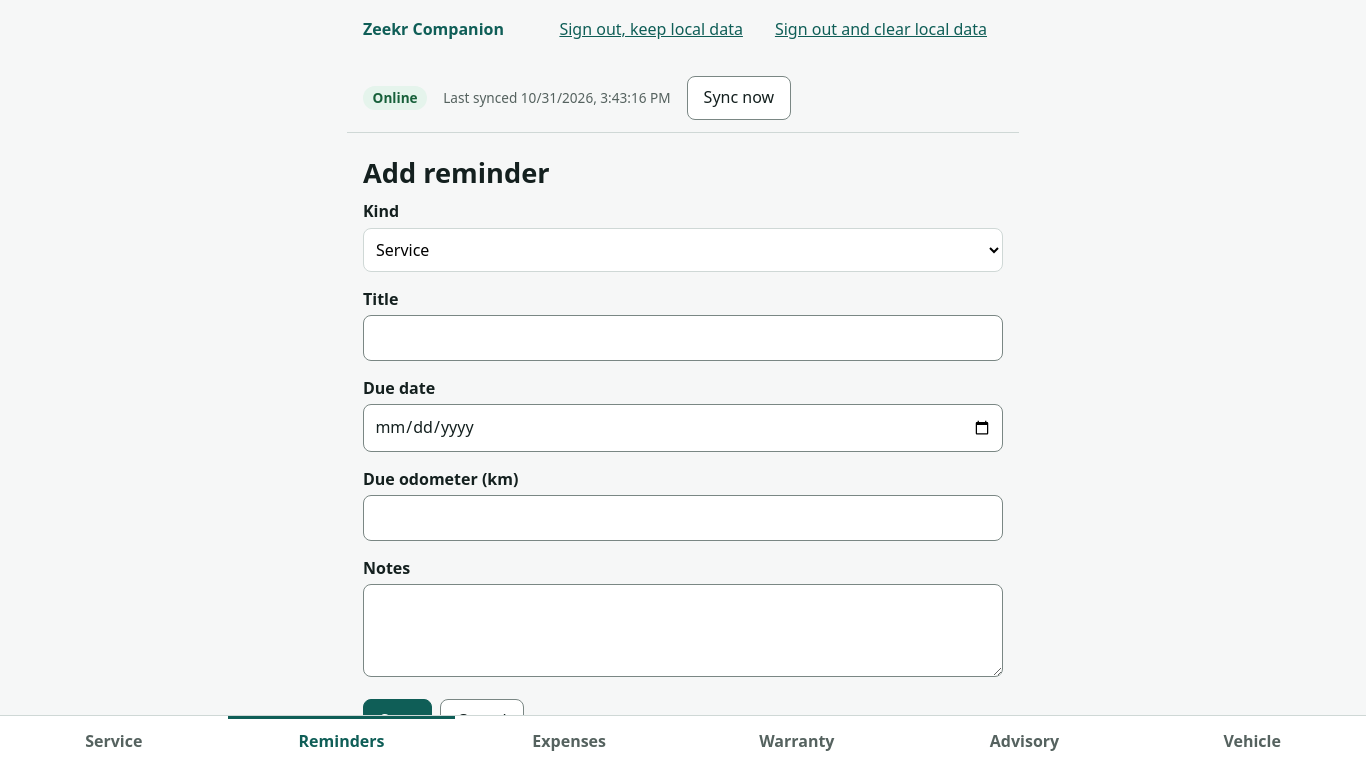
AC-18 / AC-16 / AC-15: the reminders page › shows the road tax kind with the label "Road tax (JPJ)" and no fees
Select "Road tax renewal (Road tax (JPJ))" in the dropdown labelled "Kind" at (683, 250), box [363, 228, 1003, 272]
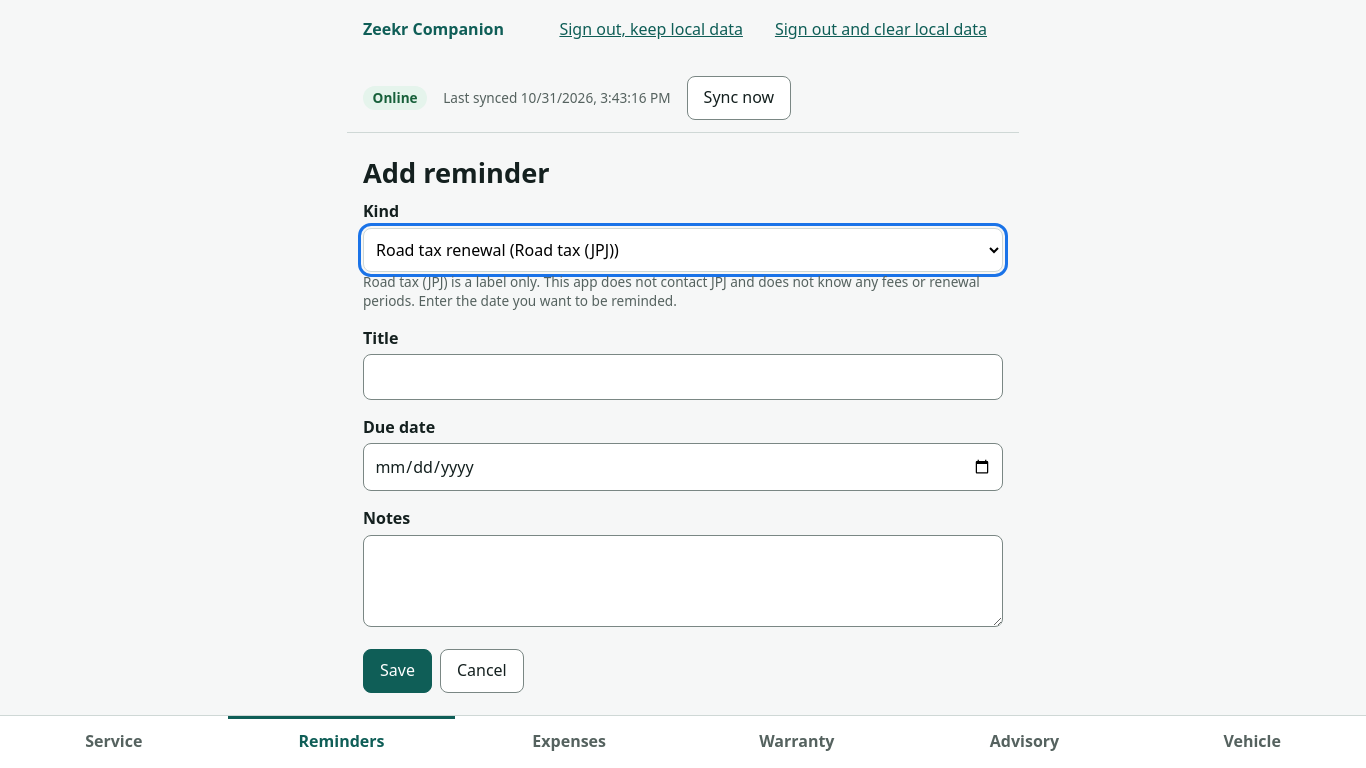
Now the text "does not contact JPJ" is shown, box [363, 272, 980, 310]
Now the label labelled "Due odometer" is gone
